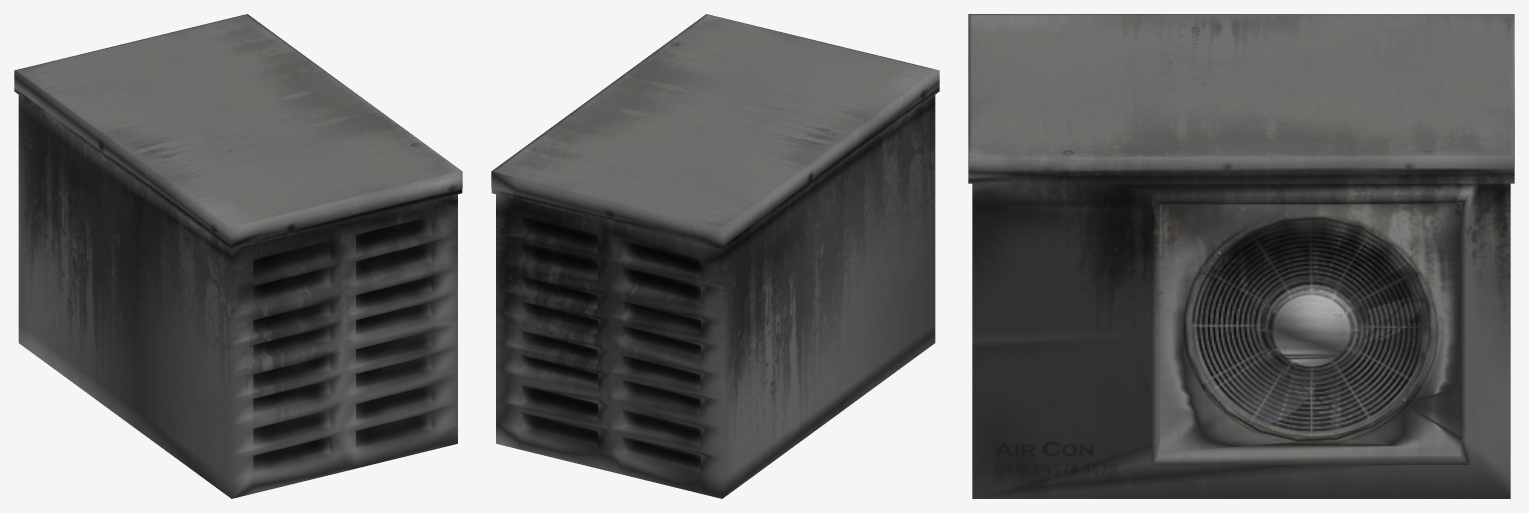
Rendered from air_con.glb.
3 renders of one model, left to right at view 1: azimuth 30°, elevation 25°; view 2: azimuth 150°, elevation 25°; view 3: azimuth 270°, elevation 25°, orthographic. The views are drawn at different scales.
Parts seen in each view (by area): view 1: pSphere5; view 2: pSphere5; view 3: pSphere5.
Boxes of the visible parts, bbox=[...] form: pSphere5: bbox=[14, 14, 462, 498]; pSphere5: bbox=[491, 14, 939, 498]; pSphere5: bbox=[968, 14, 1514, 498].
Bounding box in the file's own units: 0.0165 × 0.0183 × 0.0264.
1 material, 1 textured.
